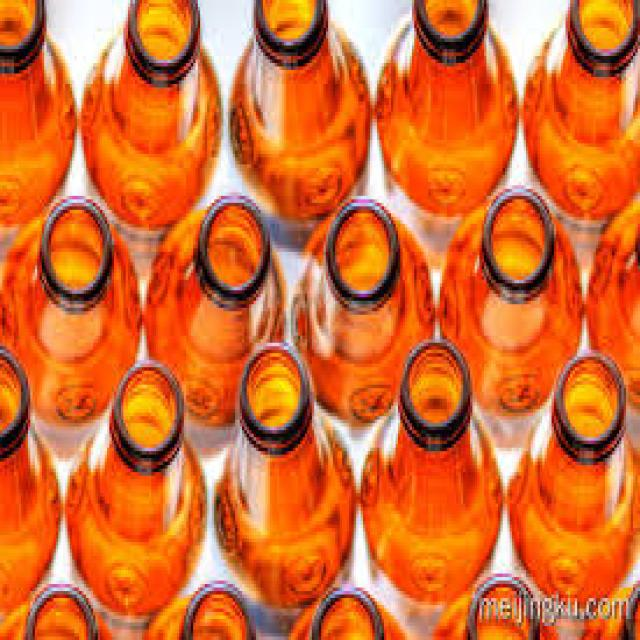glass: (356, 332, 505, 602), (214, 339, 356, 609), (63, 357, 205, 619), (507, 346, 638, 609), (438, 185, 584, 413), (145, 193, 287, 424), (77, 0, 221, 224), (291, 196, 435, 416), (0, 196, 140, 420), (226, 0, 368, 217), (375, 0, 517, 210), (519, 0, 637, 213), (0, 0, 77, 224), (0, 343, 58, 609), (587, 178, 638, 406), (428, 567, 559, 637), (137, 577, 256, 637), (0, 581, 112, 637), (286, 584, 403, 637), (580, 577, 638, 637)
